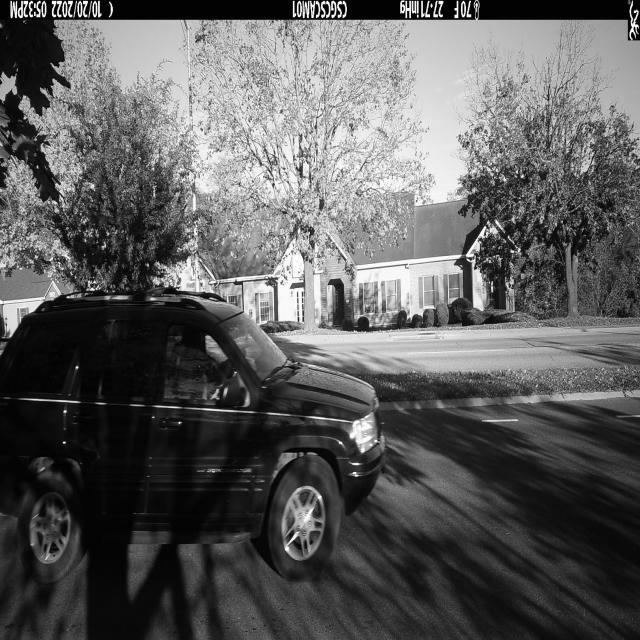SUV: (0, 287, 385, 584)
